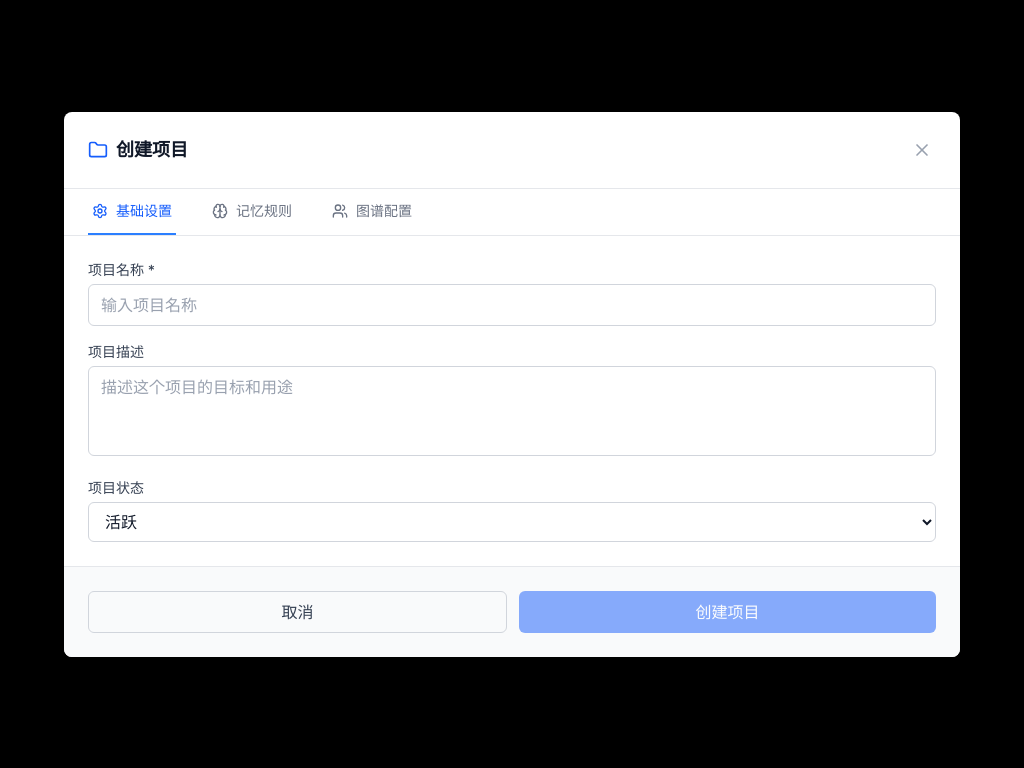
Scenario: ProjectCreateModal › handles configuration tabs
The width and height of the screenshot is (1024, 768).
Switch to memory rules
Step 1. Click the button "记忆规则" → (252, 212), box [208, 188, 296, 234]
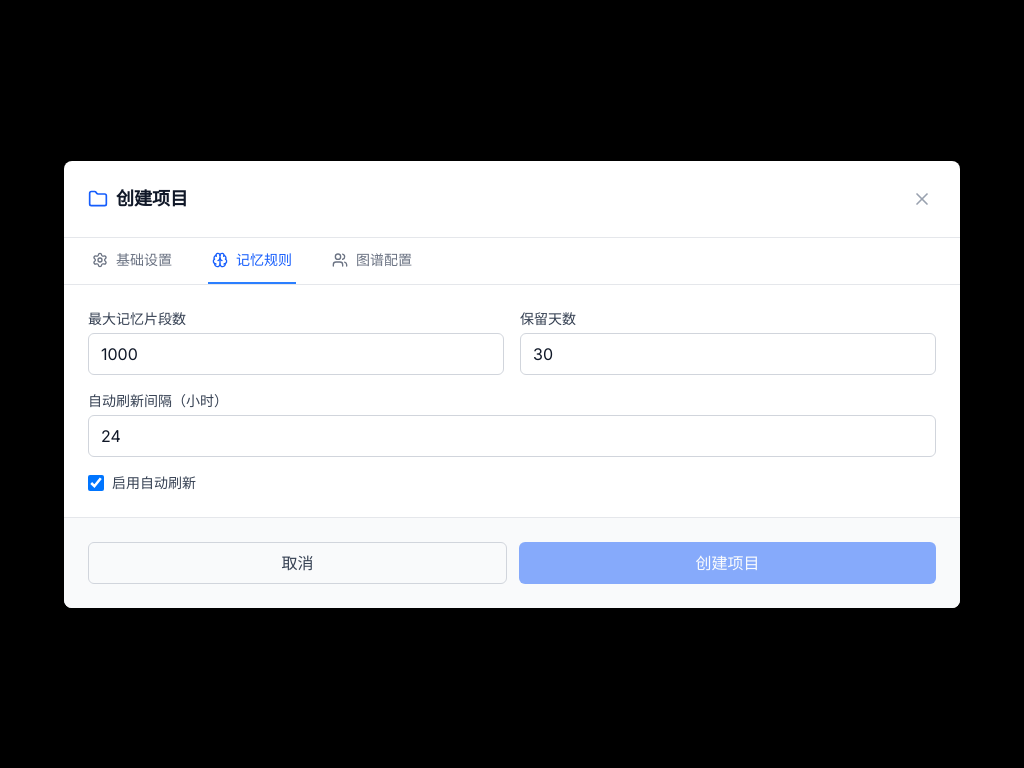
Check: the number field labelled "最大记忆片段数" is shown, box [88, 332, 504, 374]
Switch to graph config
Step 2. Click the button "图谱配置" → (372, 260), box [328, 238, 416, 284]
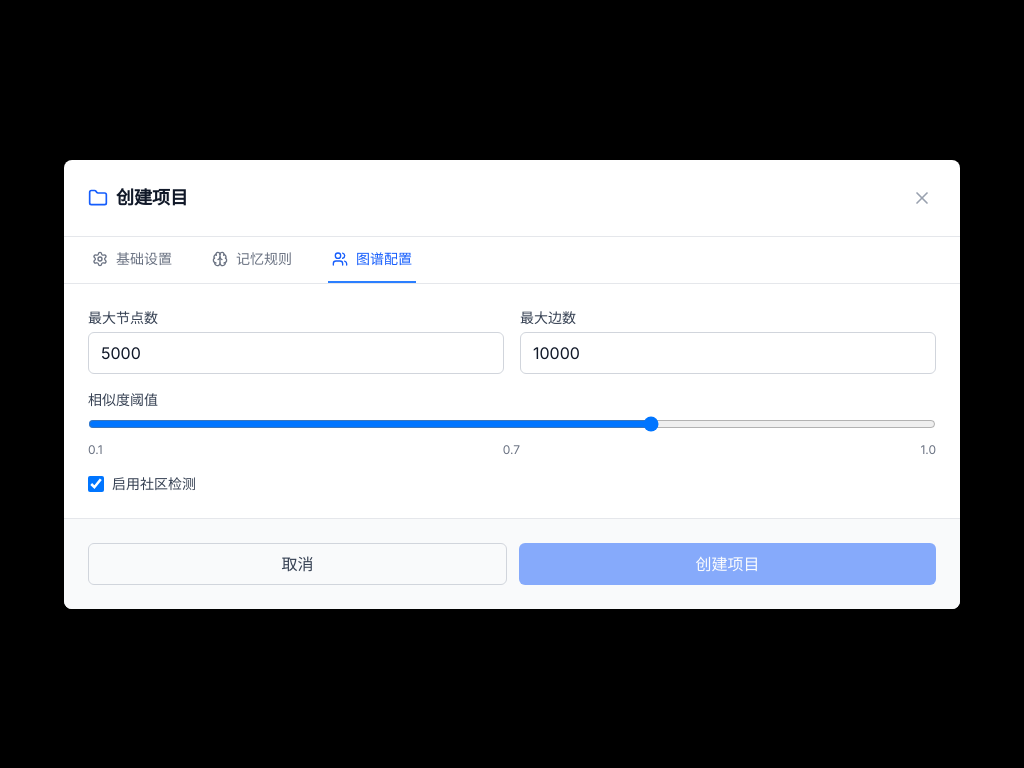
Check: the number field labelled "最大节点数" is shown, box [88, 332, 504, 374]
